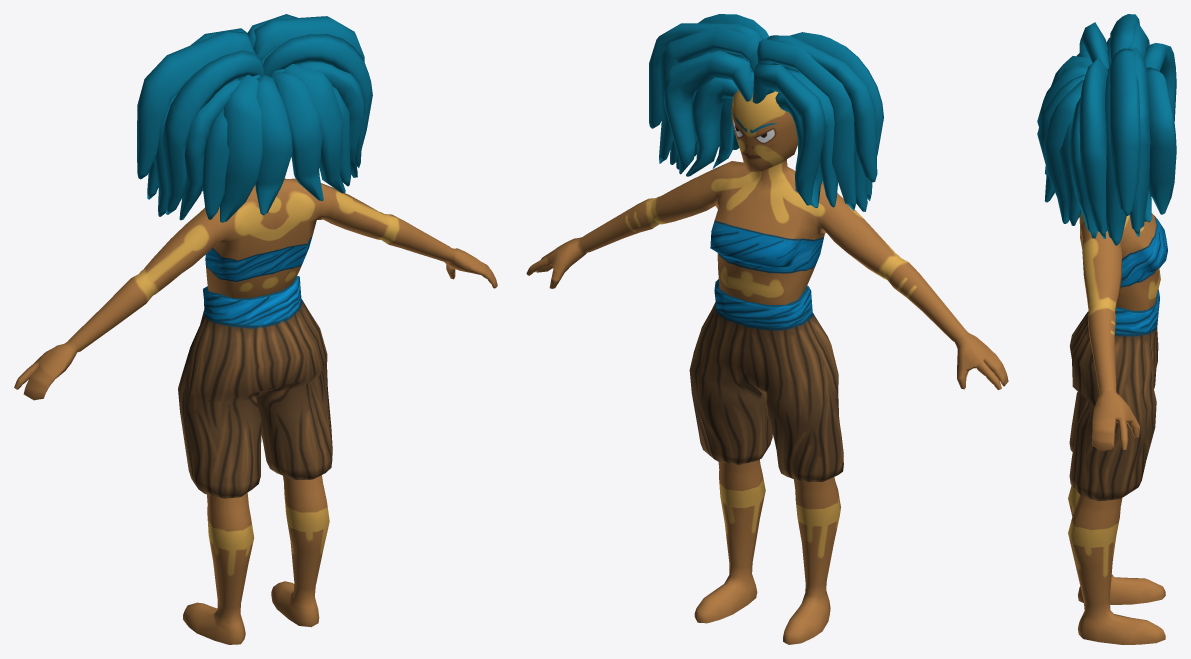
The model's file is rig_char_061.fbx.
3 views of the same model, side by side, from view 1: azimuth 30°, elevation 25°; view 2: azimuth 150°, elevation 25°; view 3: azimuth 270°, elevation 25° (orthographic). The views are drawn at different scales.
Visible parts, largest first — view 1: mesh_char_114; view 2: mesh_char_114; view 3: mesh_char_114.
Boxes of the visible parts, left/top/right/bottom form: mesh_char_114: left=14, top=14, right=497, bottom=644; mesh_char_114: left=526, top=14, right=1008, bottom=644; mesh_char_114: left=1037, top=14, right=1176, bottom=644.
Size of the model in its own units: 8.44 by 10.01 by 2.19.
1 material, 1 textured.
